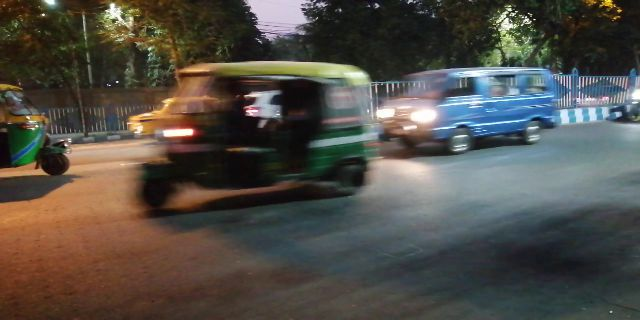Autorickshaw: (146, 62, 374, 214)
Van: (394, 64, 566, 150)
